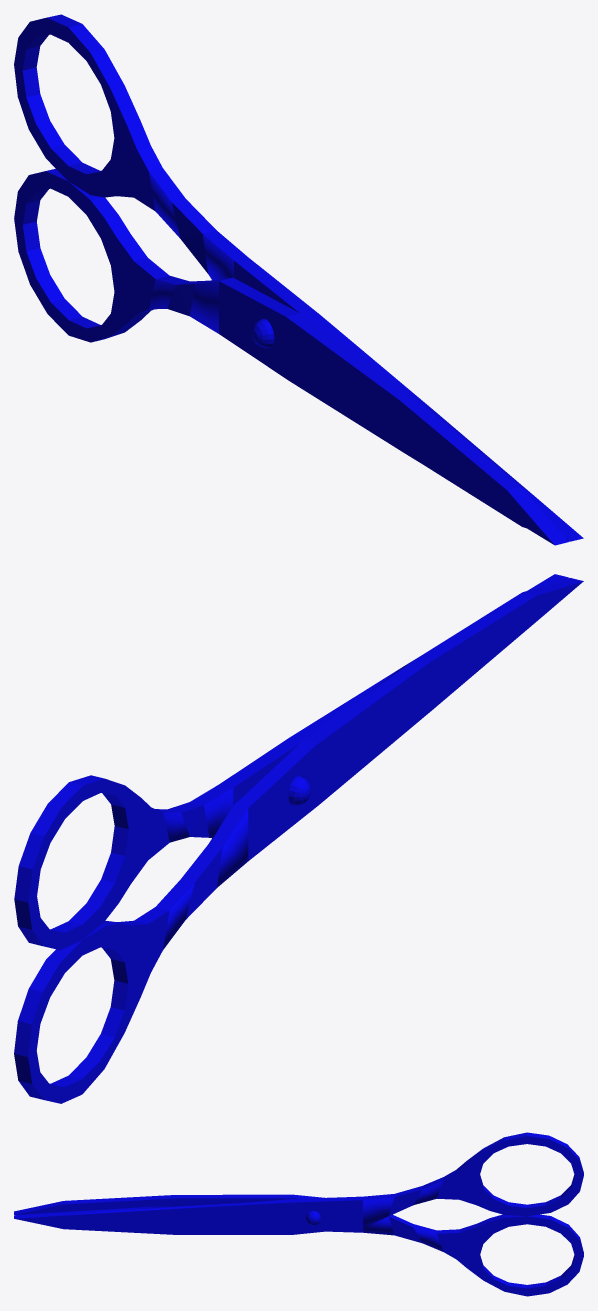
File: scissors1_0.dae
3 views of the same model, one above another, from view 1: azimuth 30°, elevation 25°; view 2: azimuth 150°, elevation 25°; view 3: azimuth 270°, elevation 25° (orthographic). The views are drawn at different scales.
Visible parts, largest first — view 1: M003320; view 2: M003320; view 3: M003320.
Part boxes in pixels (x1,y1,x2,y2): M003320: (14,14,583,545); M003320: (14,574,583,1103); M003320: (14,1132,583,1296).
Size of the model in its own units: 0.0156 by 0.2706 by 0.084.
